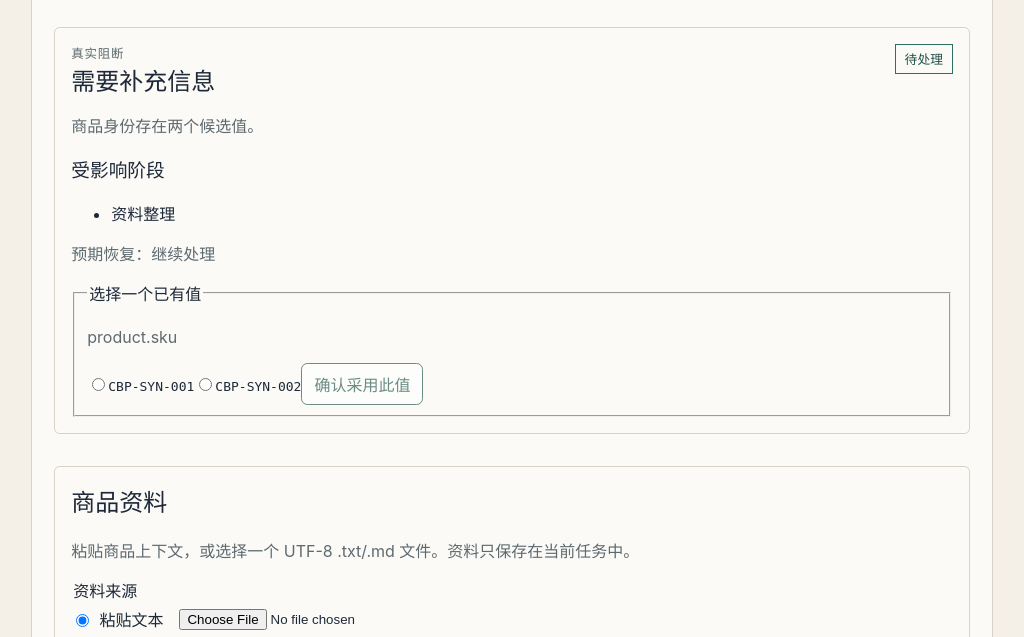
Scenario: TaskRoutes › does not claim refreshed authority when resolution succeeds but Task refresh fails
(page scrolled)
Click the radio button labelled "CBP-SYN-001" at point(99, 384), box left=92, top=378, right=105, bottom=391
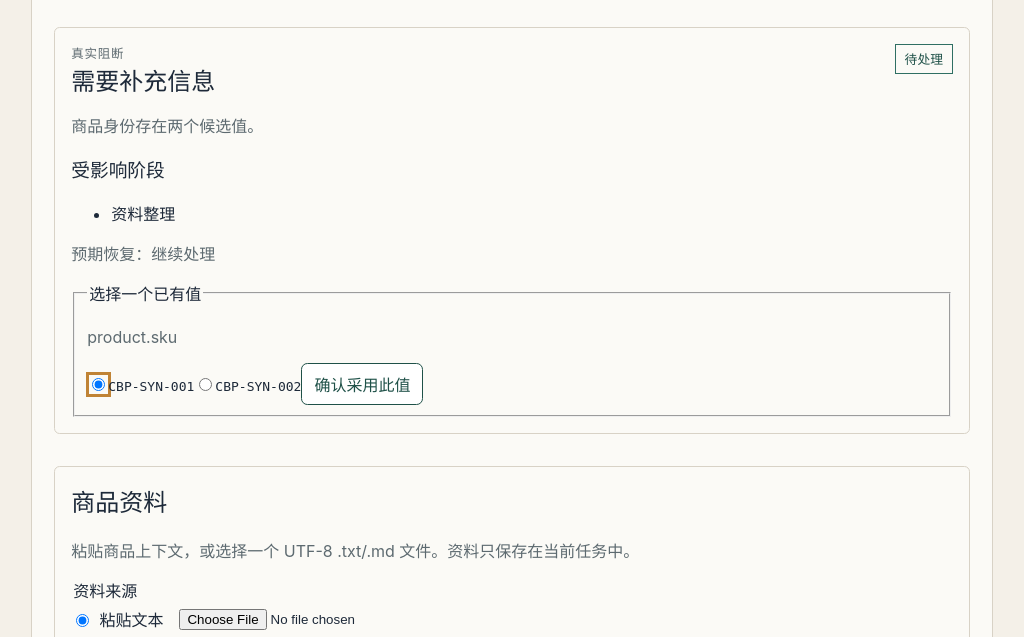
Click the button "确认采用此值" at point(362, 384), box left=301, top=363, right=423, bottom=405
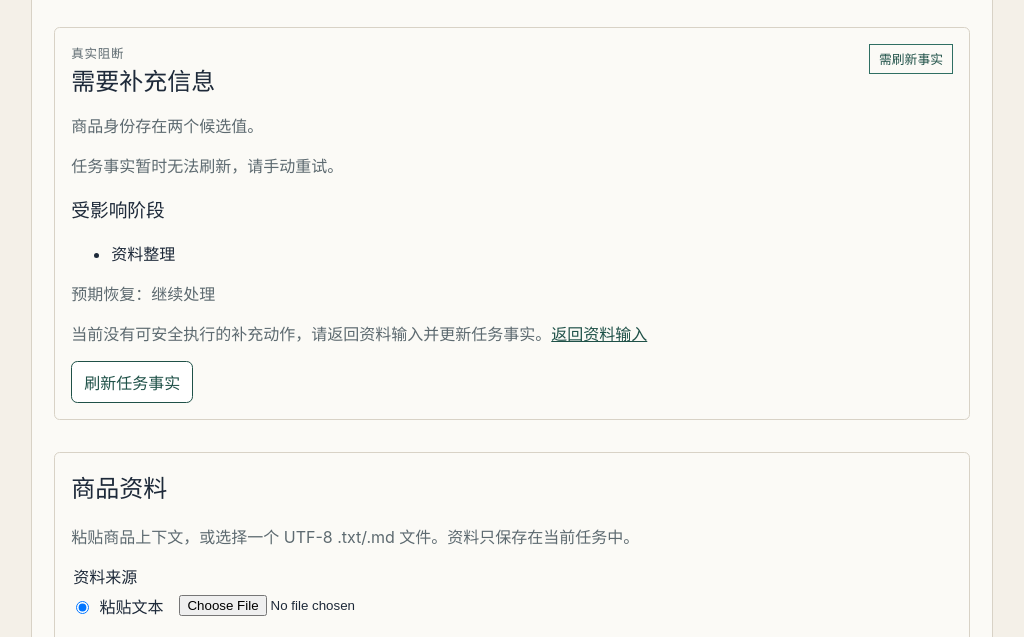
Check: the text "需刷新事实" is shown, box left=869, top=44, right=953, bottom=74
Check: the button "刷新任务事实" is shown, box left=71, top=361, right=193, bottom=403
